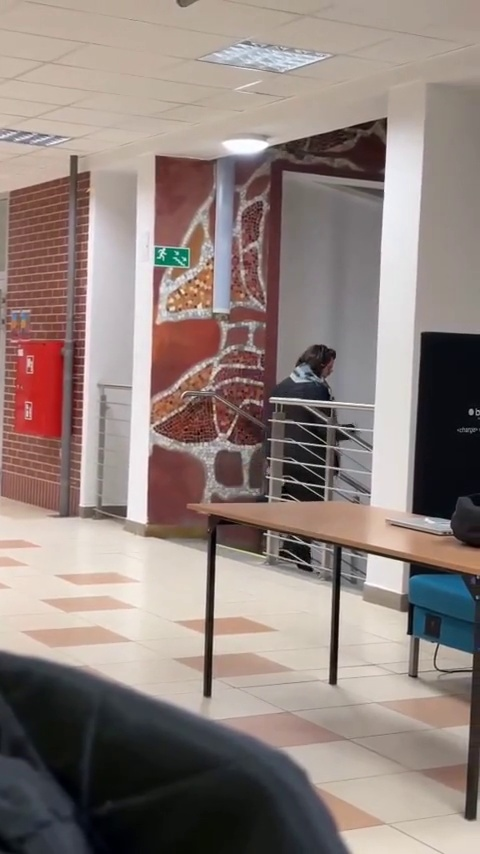no vest: (262, 333, 360, 563)
